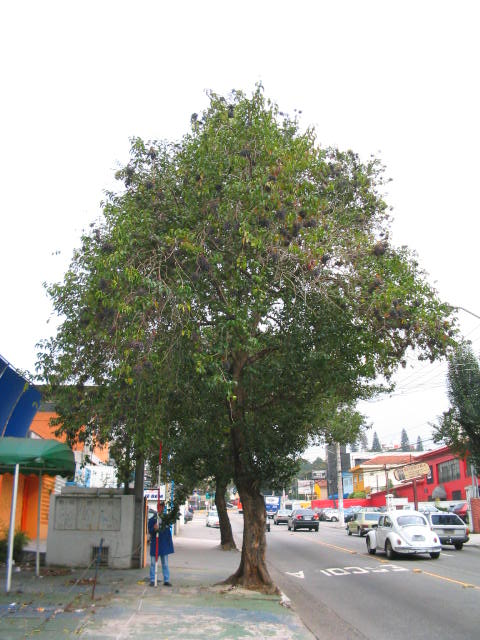crown: (28, 80, 466, 464)
stem: (233, 483, 288, 592), (208, 488, 239, 549)
stick: (147, 442, 169, 585)
tree: (23, 79, 469, 594)
